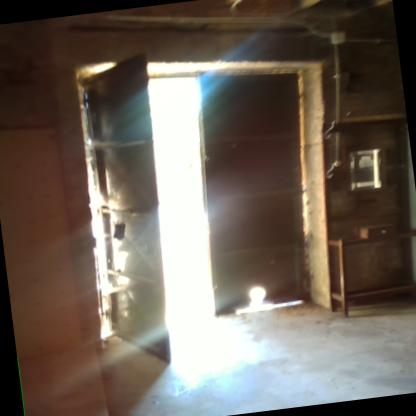semi: (123, 36, 364, 345)
